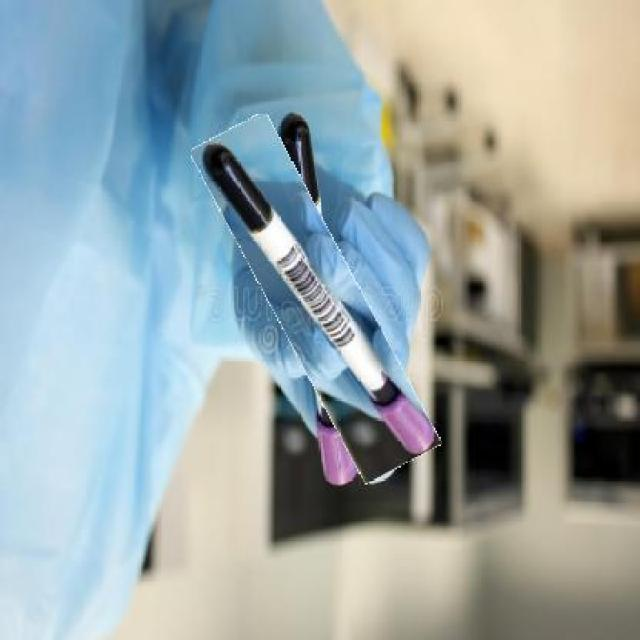Experimental-tube: (231, 110, 400, 485)
